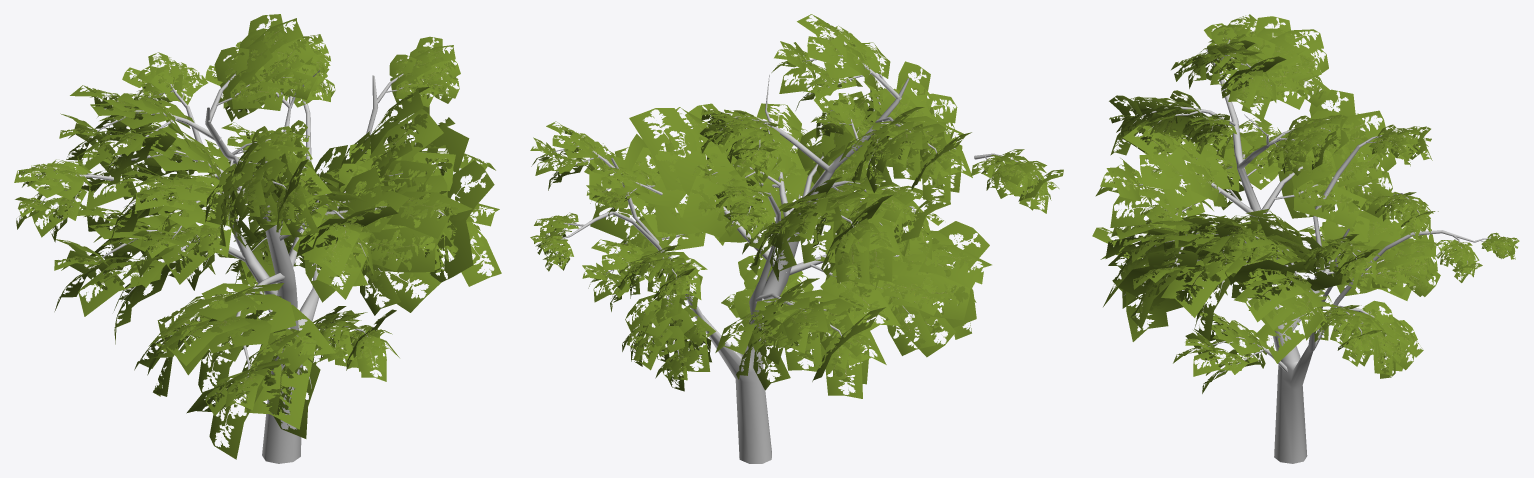
Rendered from oak.fbx.
3 renders of one model, left to right at view 1: azimuth 30°, elevation 25°; view 2: azimuth 150°, elevation 25°; view 3: azimuth 270°, elevation 25°, orthographic. The views are drawn at different scales.
Parts seen in each view (by area): view 1: tree small joined; view 2: tree small joined; view 3: tree small joined.
Part boxes in pixels (x1,y1,x2,y2): tree small joined: (14, 14, 501, 463); tree small joined: (530, 14, 1063, 463); tree small joined: (1092, 14, 1519, 463).
Size of the model in its own units: 5.02 by 4.39 by 4.2.
